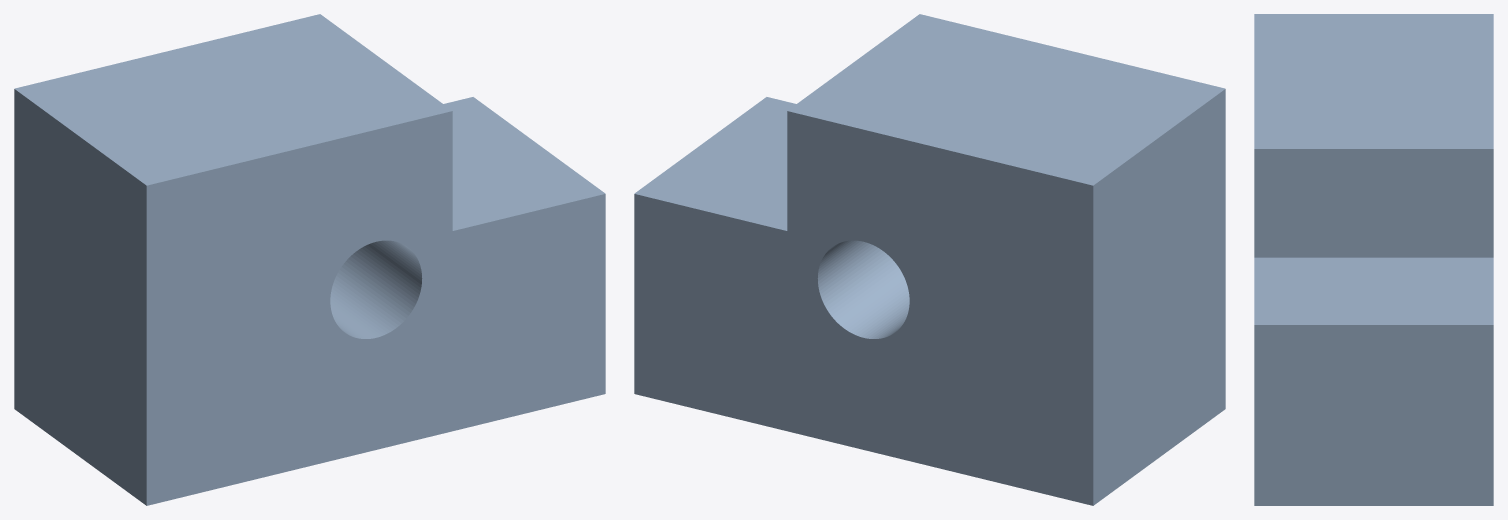
3 views of the same model, side by side, from view 1: azimuth 30°, elevation 25°; view 2: azimuth 150°, elevation 25°; view 3: azimuth 270°, elevation 25° (orthographic). The views are drawn at different scales.
Parts seen in each view (by area): view 1: part; view 2: part; view 3: part.
Boxes of the visible parts, left/top/right/bottom form: part: left=14, top=14, right=605, bottom=505; part: left=634, top=14, right=1225, bottom=505; part: left=1254, top=14, right=1493, bottom=505.
Size of the model in its own units: 0.06 by 0.04 by 0.03.
